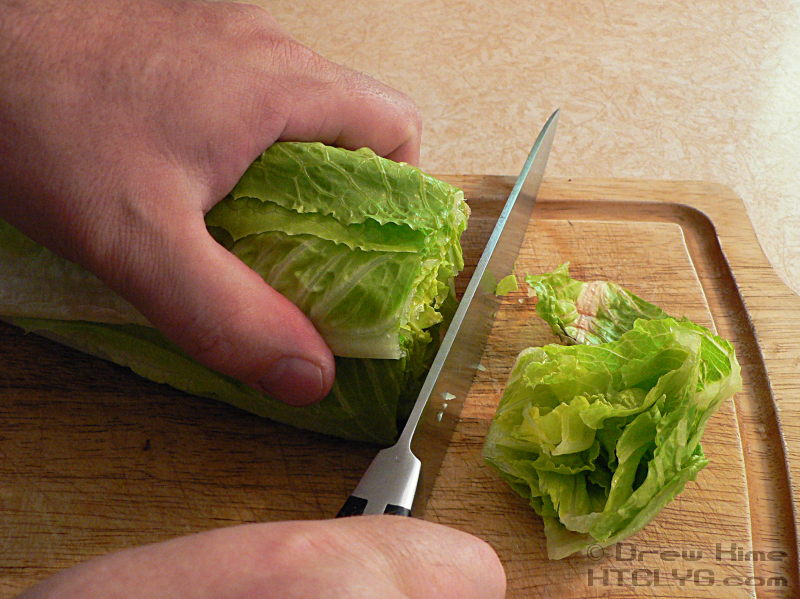chopped lettuce: (500, 286, 713, 545), (287, 148, 441, 453)
